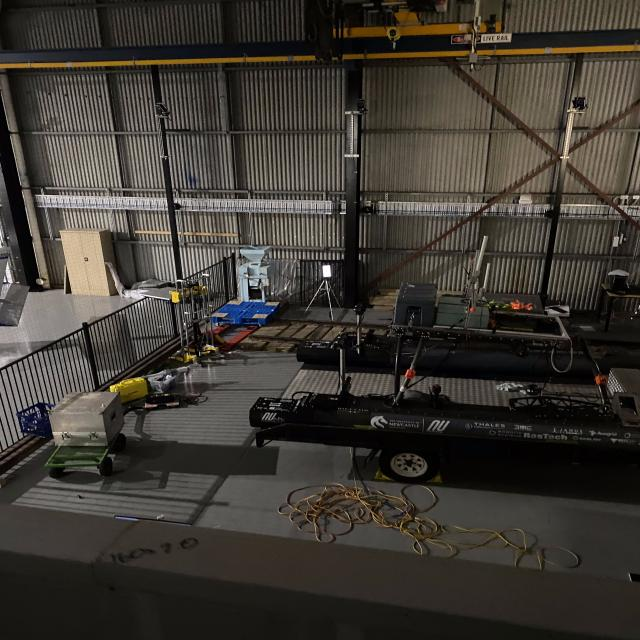matrix: (322, 264, 332, 278)
